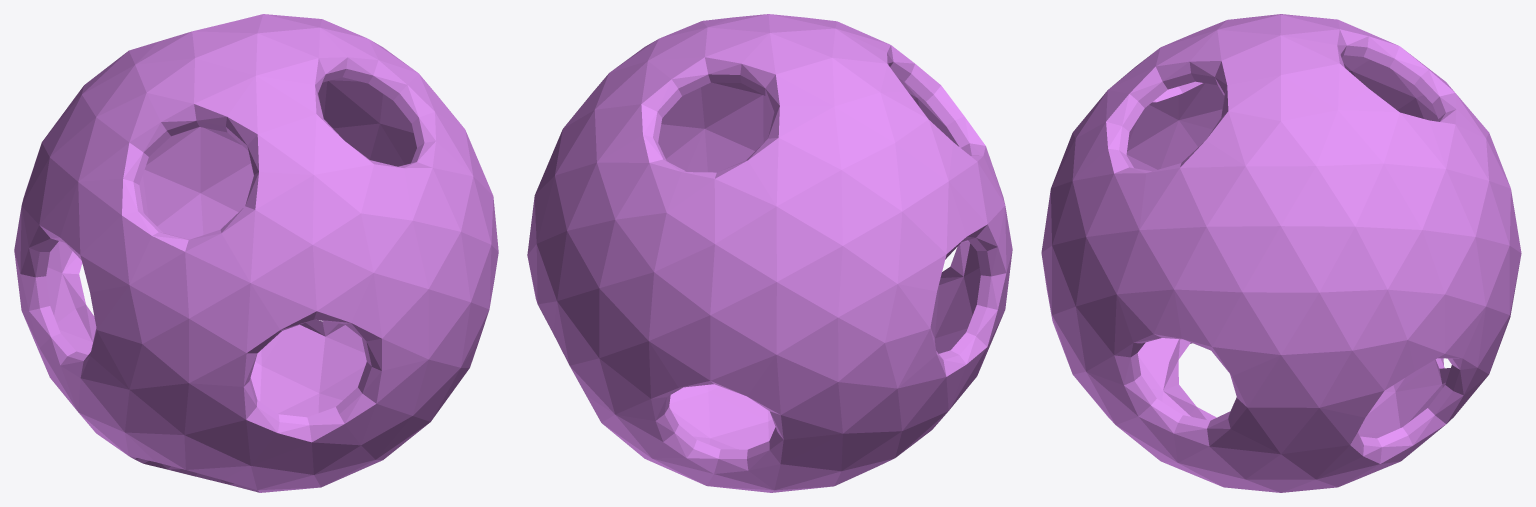
Rendered from Nucleus_V2.fbx.
3 views of the same model, side by side, from view 1: azimuth 30°, elevation 25°; view 2: azimuth 150°, elevation 25°; view 3: azimuth 270°, elevation 25° (orthographic).
Visible parts, largest first — view 1: Nucleus_V2; view 2: Nucleus_V2; view 3: Nucleus_V2.
Part boxes in pixels (x1,y1,x2,y2): Nucleus_V2: [14, 14, 498, 492]; Nucleus_V2: [527, 14, 1012, 492]; Nucleus_V2: [1041, 14, 1521, 492].
Size of the model in its own units: 138 by 142 by 142.
